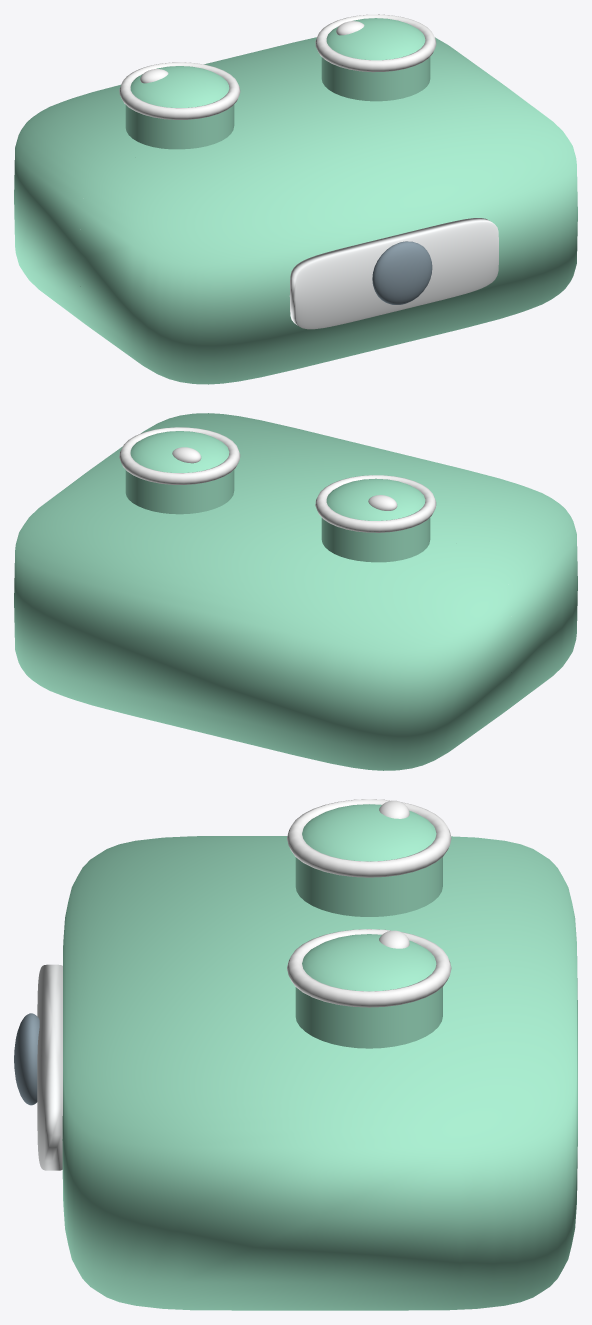
The model's file is block-green.glb.
3 renders of one model, top to bottom at view 1: azimuth 30°, elevation 25°; view 2: azimuth 150°, elevation 25°; view 3: azimuth 270°, elevation 25°, orthographic. The views are drawn at different scales.
Visible parts, largest first — view 1: single molded rounded body, front inset panel, top peg body (×2), rounded peg cap (×2), peg bevel ring (×2), front dot; view 2: single molded rounded body, top peg body (×2), rounded peg cap (×2), peg bevel ring (×2); view 3: single molded rounded body, top peg body (×2), rounded peg cap (×2), peg bevel ring (×2), front inset panel, front dot.
Boxes of the visible parts, x1,y1,x2,y2 form: single molded rounded body: [14, 37, 577, 384]; front inset panel: [289, 218, 498, 329]; top peg body (×2): [125, 57, 430, 149]; rounded peg cap (×2): [130, 18, 425, 107]; peg bevel ring (×2): [119, 14, 436, 119]; front dot: [372, 241, 432, 304]; single molded rounded body: [14, 413, 577, 770]; top peg body (×2): [125, 470, 430, 562]; rounded peg cap (×2): [130, 431, 425, 520]; peg bevel ring (×2): [119, 427, 436, 532]; single molded rounded body: [62, 836, 577, 1310]; top peg body (×2): [295, 857, 442, 1048]; rounded peg cap (×2): [302, 804, 436, 991]; peg bevel ring (×2): [287, 799, 451, 1007]; front inset panel: [37, 964, 62, 1170]; front dot: [14, 1013, 39, 1105].
Bounding box in the file's own units: 1.1 × 0.568 × 0.9176.
